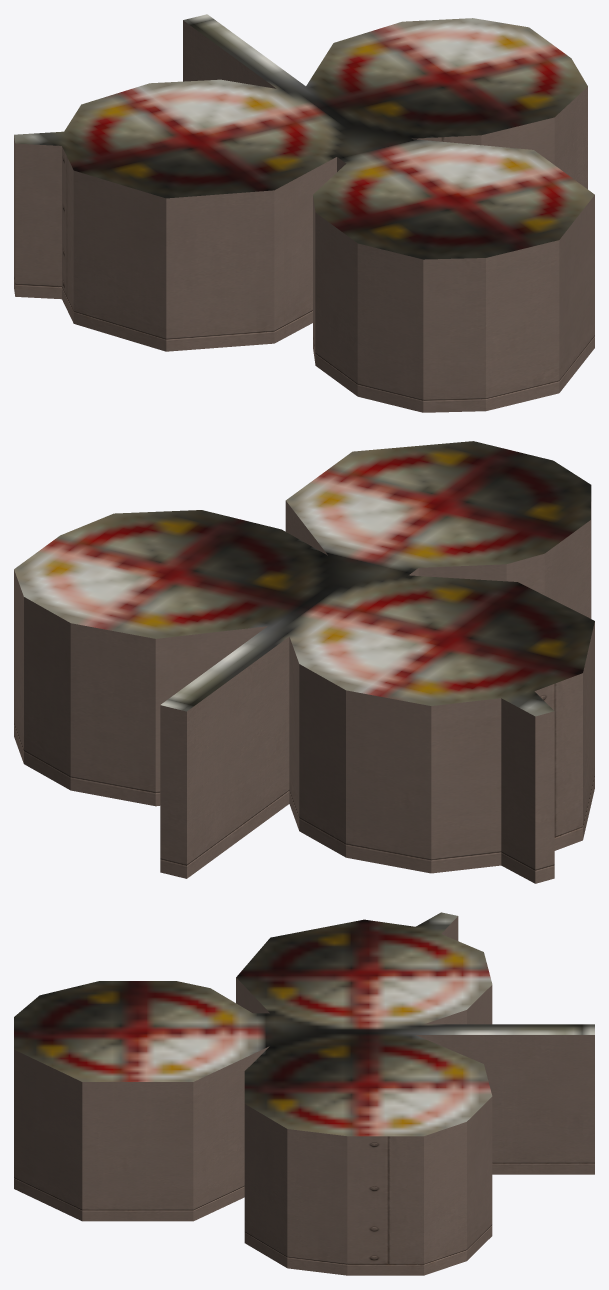
File: fuel_tank_medium_33.glb
3 views of the same model, one above another, from view 1: azimuth 30°, elevation 25°; view 2: azimuth 150°, elevation 25°; view 3: azimuth 270°, elevation 25° (orthographic). The views are drawn at different scales.
Parts seen in each view (by area): view 1: buildings/saxarba/fuel_tanks/fuel_tank_medium_33; view 2: buildings/saxarba/fuel_tanks/fuel_tank_medium_33; view 3: buildings/saxarba/fuel_tanks/fuel_tank_medium_33.
Boxes of the visible parts, bbox=[...] form: buildings/saxarba/fuel_tanks/fuel_tank_medium_33: bbox=[14, 14, 594, 412]; buildings/saxarba/fuel_tanks/fuel_tank_medium_33: bbox=[14, 441, 594, 883]; buildings/saxarba/fuel_tanks/fuel_tank_medium_33: bbox=[14, 912, 594, 1275].
Size of the model in its own units: 62 by 18 by 68.
